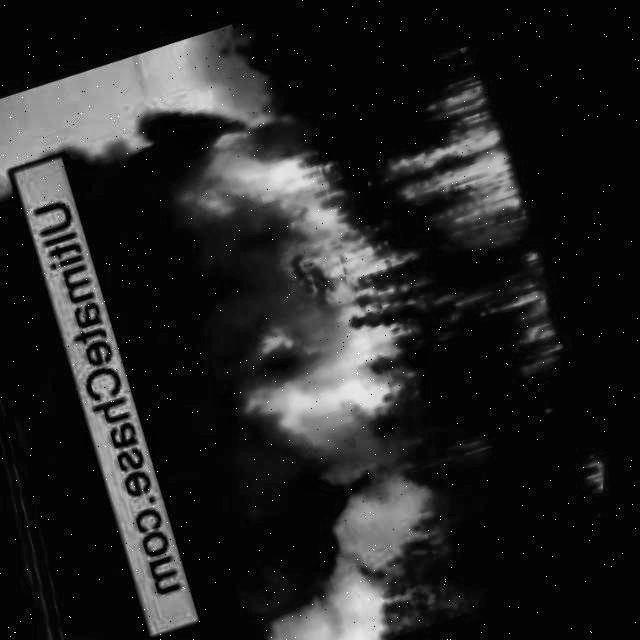Fire: (131, 33, 591, 483), (579, 441, 613, 525)
